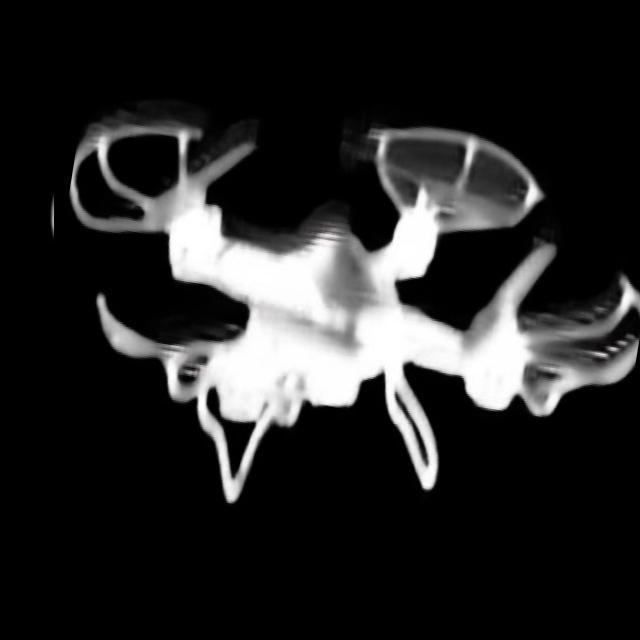drone: (54, 89, 640, 541)
